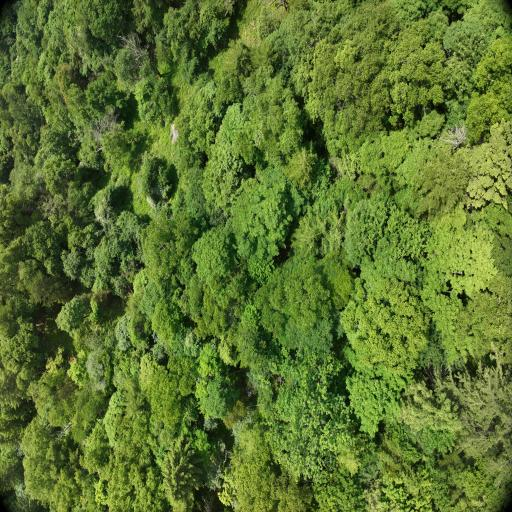dead-tree: (114, 28, 153, 74), (91, 106, 128, 143), (33, 188, 70, 224), (436, 115, 469, 151), (52, 415, 74, 444), (213, 451, 235, 477), (96, 50, 113, 67)
sick-tree: (68, 354, 79, 367)
